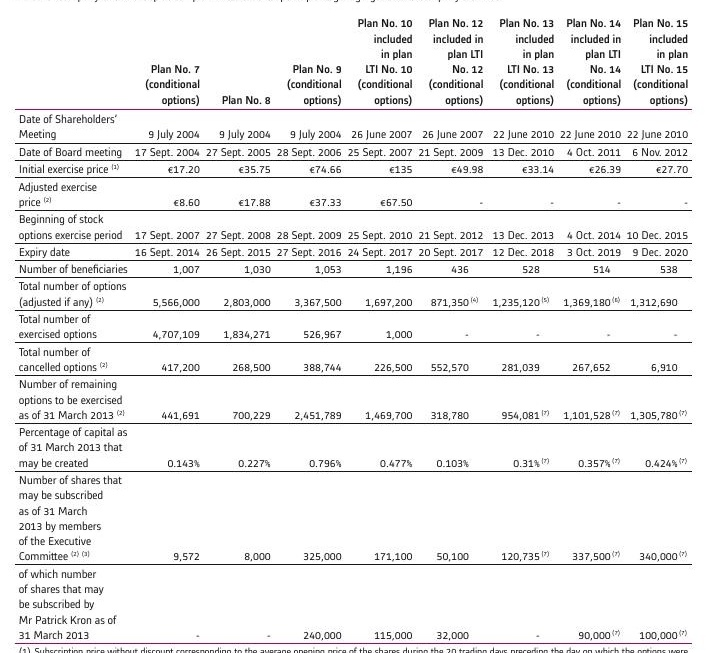table: (0, 0, 711, 653)
